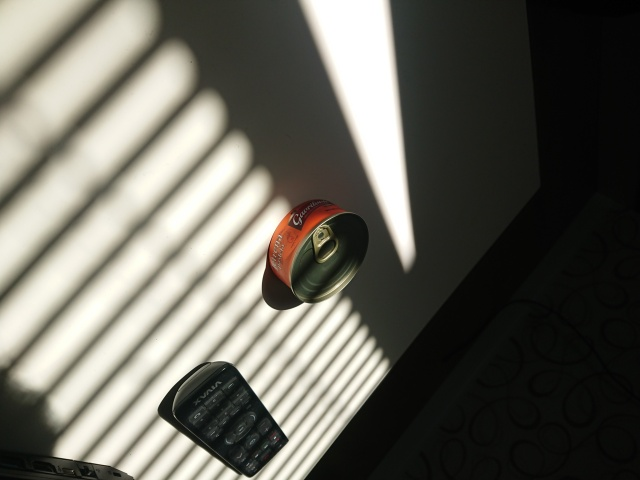Gavrilovic Pork Liver Pate 100g: (264, 196, 371, 306)
